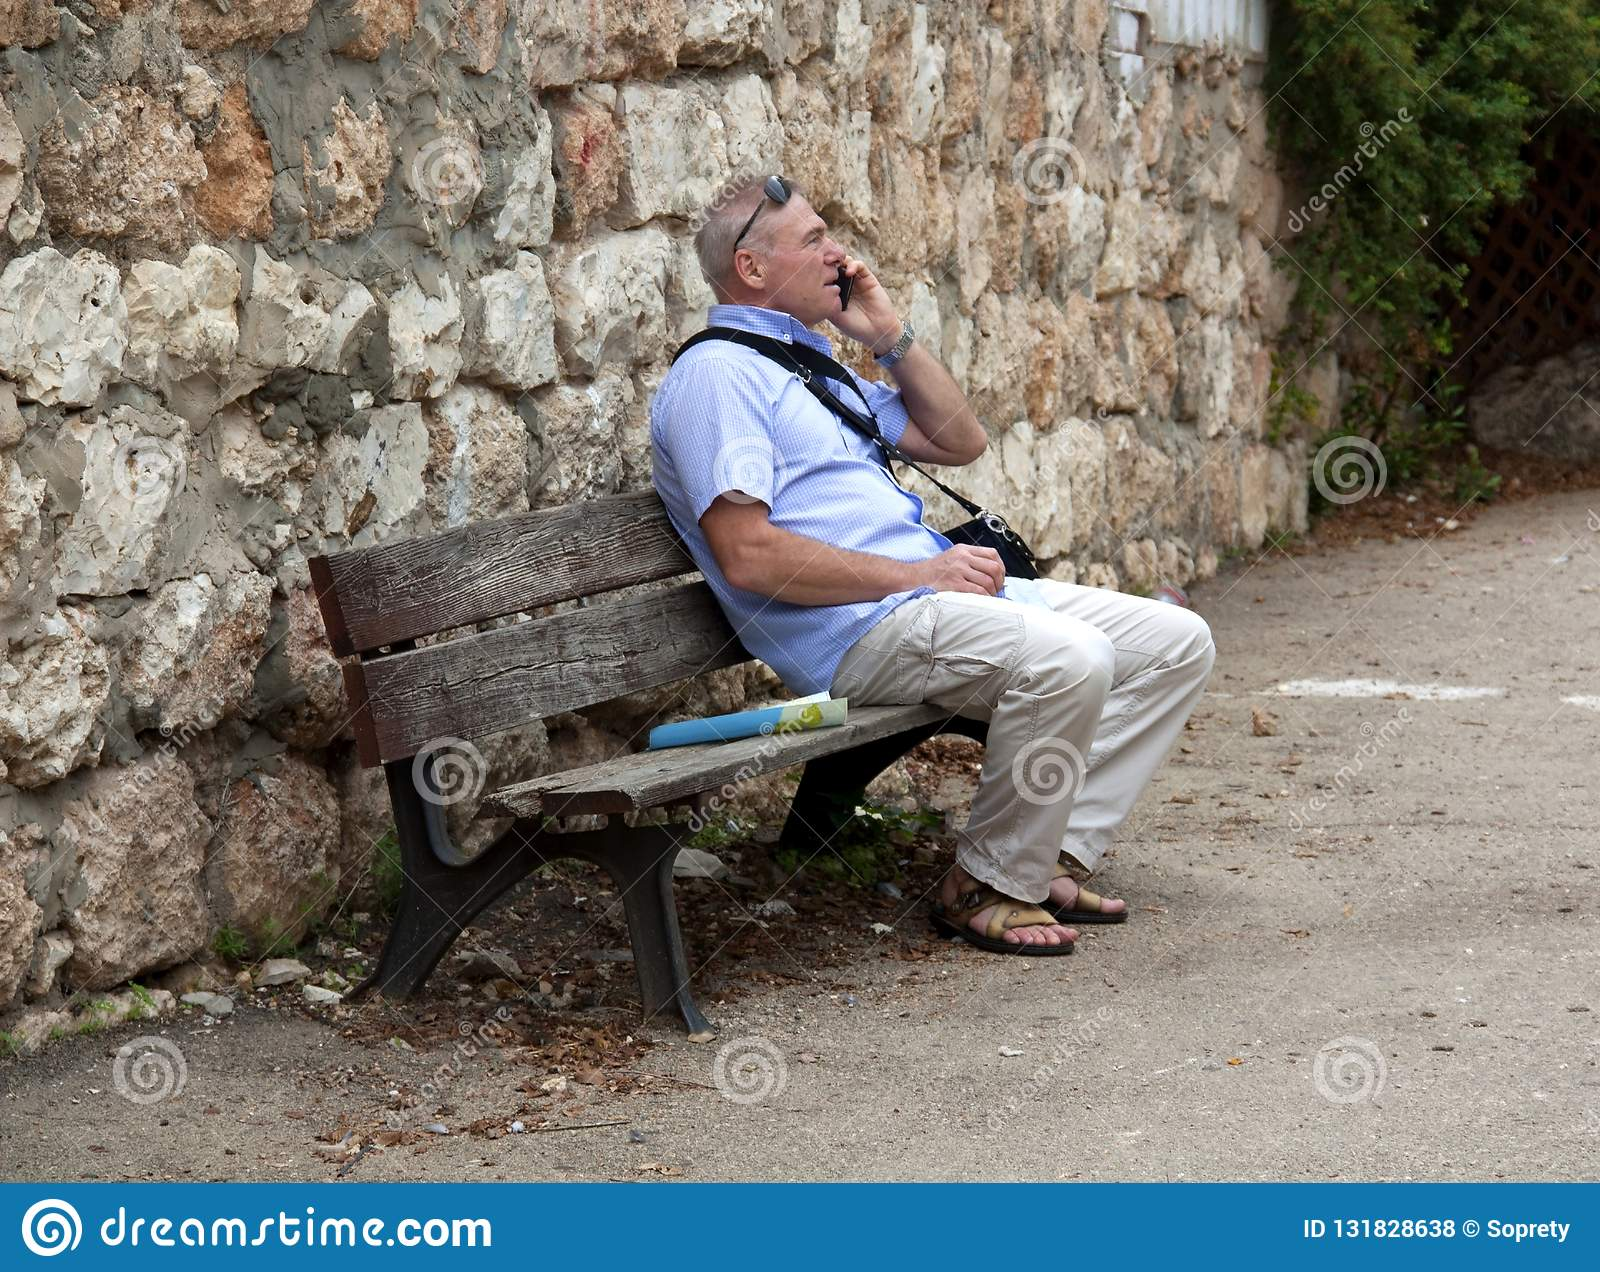talk: (790, 217, 901, 352)
